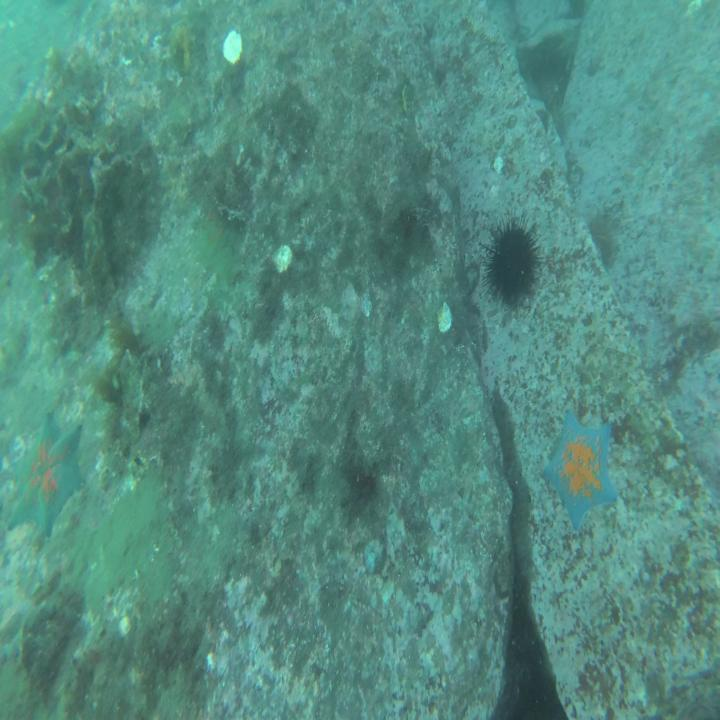echinus: (483, 217, 540, 301)
starfish: (543, 400, 621, 528), (8, 408, 82, 532)
